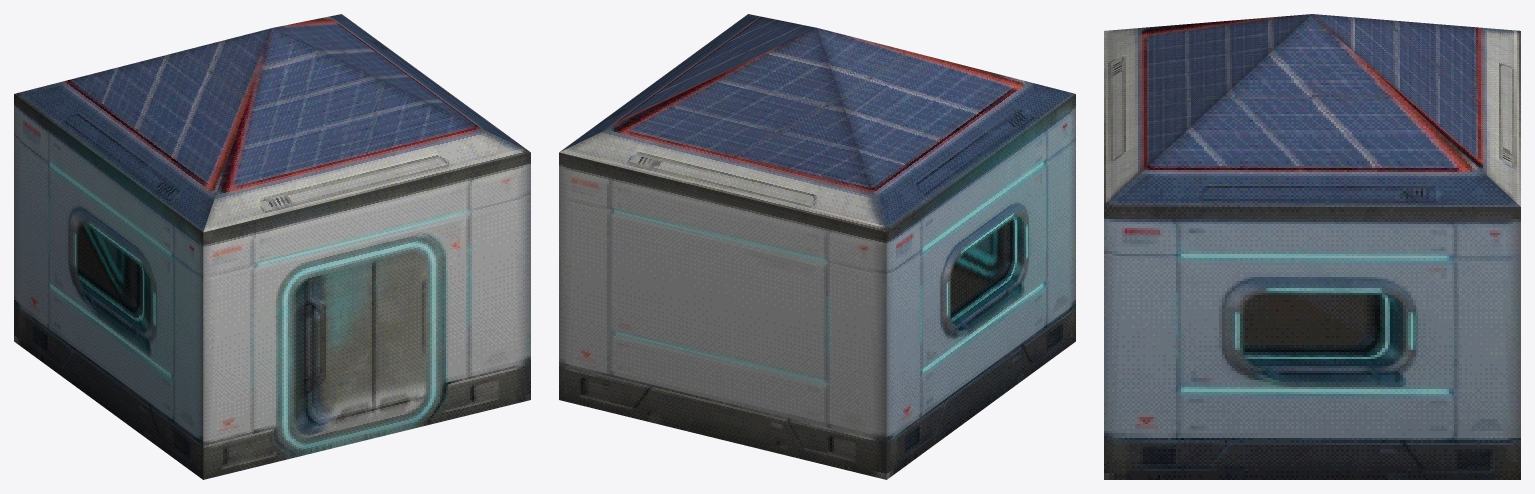
The model's file is hab.glb.
3 renders of one model, left to right at view 1: azimuth 30°, elevation 25°; view 2: azimuth 150°, elevation 25°; view 3: azimuth 270°, elevation 25°, orthographic. The views are drawn at different scales.
Visible parts, largest first — view 1: Futuristic Sci-Fi Habitat; view 2: Futuristic Sci-Fi Habitat; view 3: Futuristic Sci-Fi Habitat.
Part boxes in pixels (x1,y1,x2,y2): Futuristic Sci-Fi Habitat: (14,14,530,479); Futuristic Sci-Fi Habitat: (559,14,1075,479); Futuristic Sci-Fi Habitat: (1104,14,1520,479).
Bounding box in the file's own units: 9 × 9 × 9.
1 material, 1 textured.
